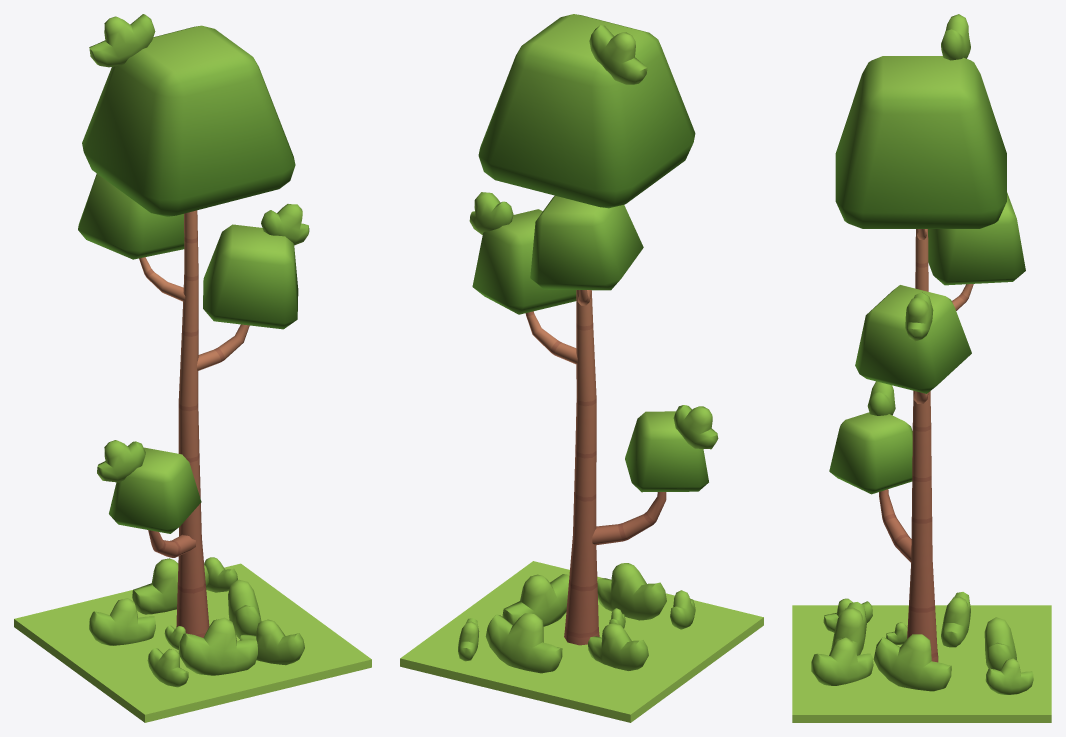
File: redwood.glb
3 renders of one model, left to right at view 1: azimuth 30°, elevation 25°; view 2: azimuth 150°, elevation 25°; view 3: azimuth 270°, elevation 25°, orthographic. The views are drawn at different scales.
Visible parts, largest first — view 1: Redwood; view 2: Redwood; view 3: Redwood.
Part boxes in pixels (x1,y1,x2,y2): Redwood: [14, 14, 371, 722]; Redwood: [400, 14, 763, 722]; Redwood: [792, 14, 1051, 722].
Bounding box in the file's own units: 0.291 × 0.8068 × 0.29.
Materials: 1 (1 with a texture image).
